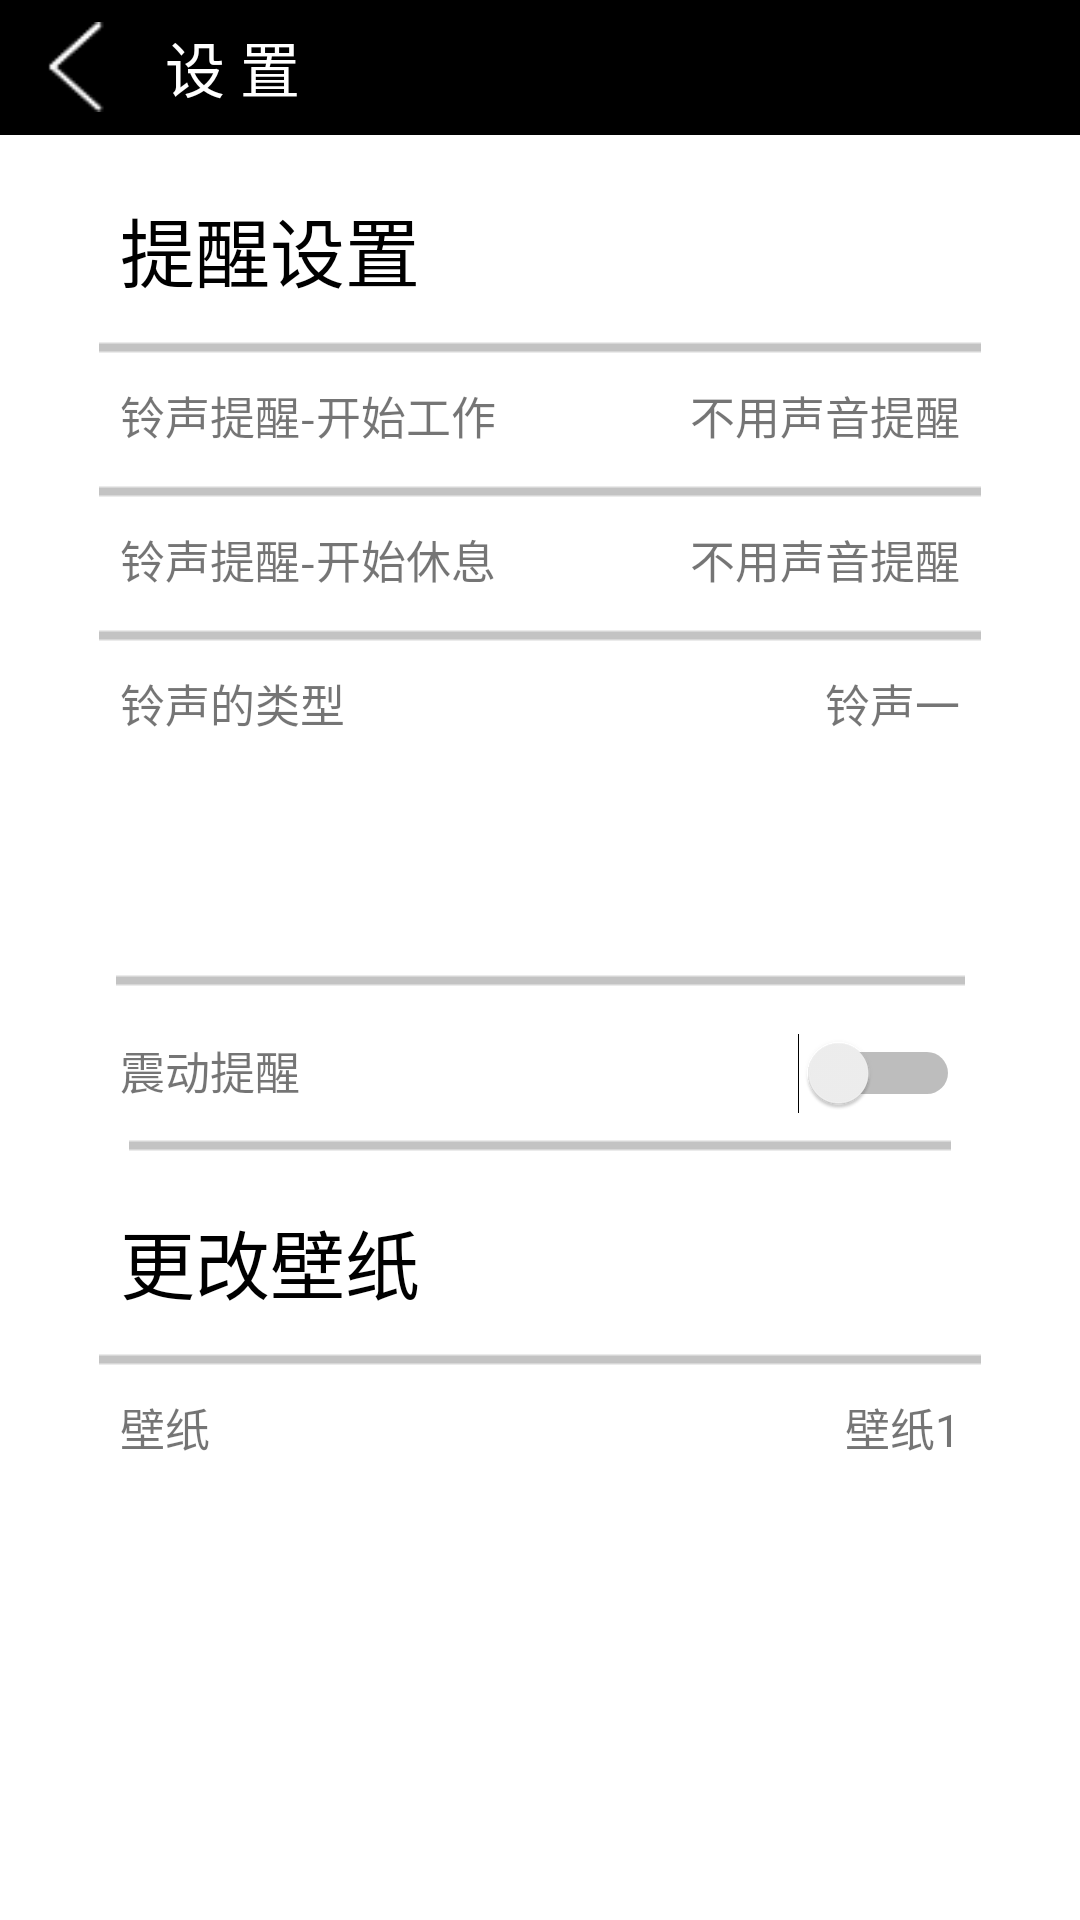

Screen size 1080px×1920px. Icon name, then its box in pixels as bbox=[x1, y1, x2, y2]:
left: bbox=[49, 22, 103, 112]
